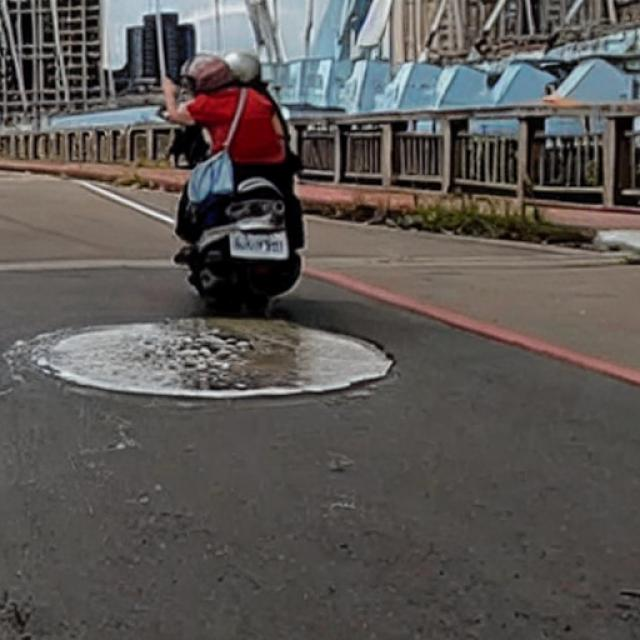puddle: (39, 318, 393, 400)
